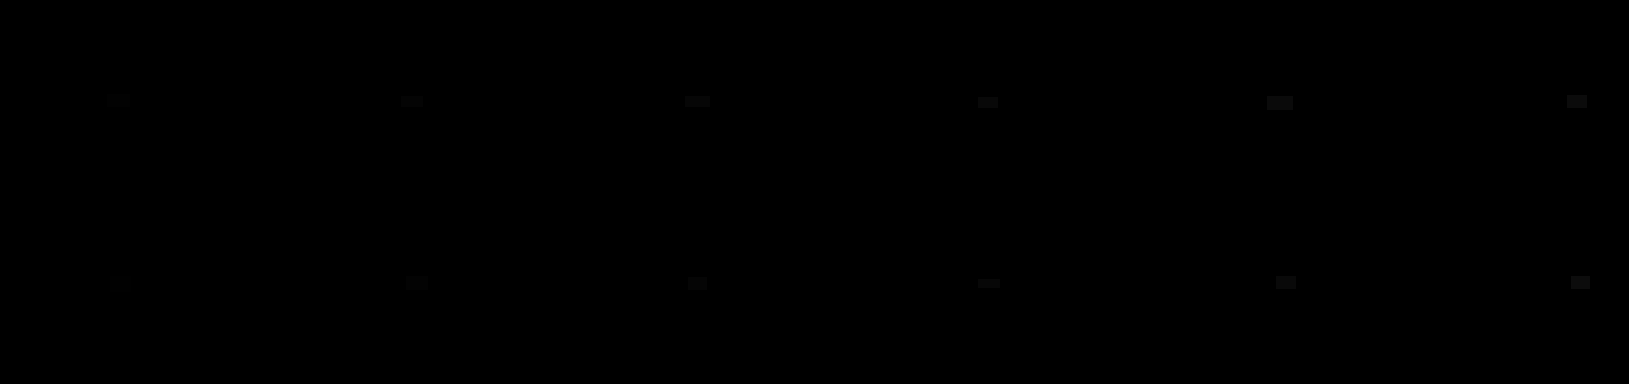light: (1267, 95, 1293, 110), (110, 276, 131, 292), (406, 276, 428, 290), (107, 94, 130, 107), (685, 95, 710, 107), (1567, 95, 1587, 108), (401, 95, 423, 107), (688, 277, 707, 290), (1276, 276, 1296, 289), (978, 97, 998, 108), (1571, 276, 1590, 289), (978, 279, 1000, 289)
